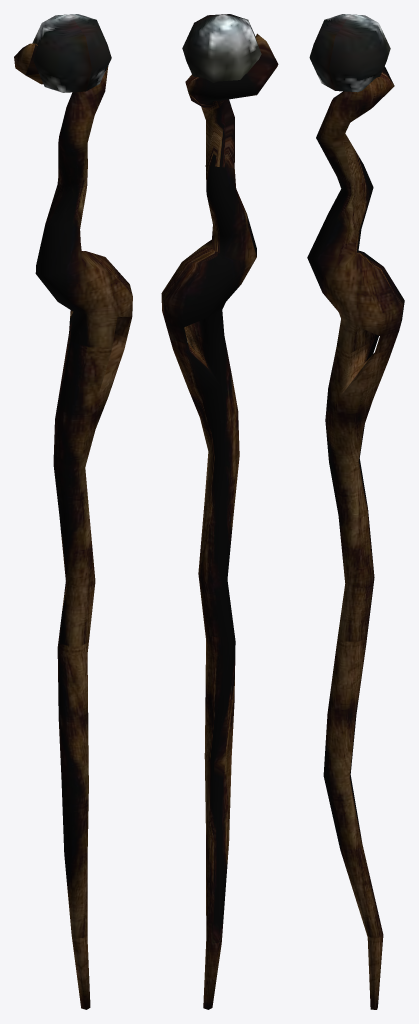
File: weapons_ball_staff.glb
3 views of the same model, side by side, from view 1: azimuth 30°, elevation 25°; view 2: azimuth 210°, elevation 25°; view 3: azimuth 330°, elevation 25° (orthographic).
Visible parts, largest first — view 1: ball_staff; view 2: ball_staff; view 3: ball_staff.
Boxes of the visible parts, x1,y1,x2,y2 form: ball_staff: [14, 14, 132, 1009]; ball_staff: [161, 14, 278, 1009]; ball_staff: [307, 14, 404, 1009].
Bounding box in the file's own units: 0.1354 × 1.33 × 0.1043.
Materials: 1 (1 with a texture image).
